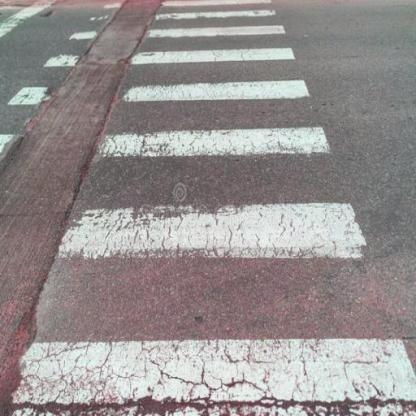crosswalk: (42, 113, 376, 292), (112, 40, 315, 106)
